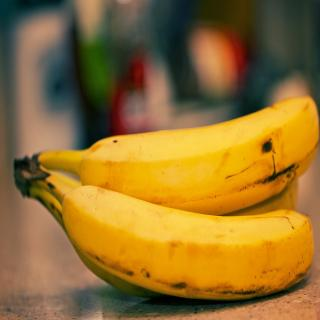Banana: (28, 96, 320, 216), (27, 196, 165, 299), (227, 181, 296, 214)
